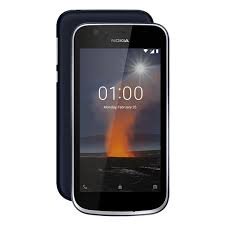nokia: (72, 20, 169, 216)
